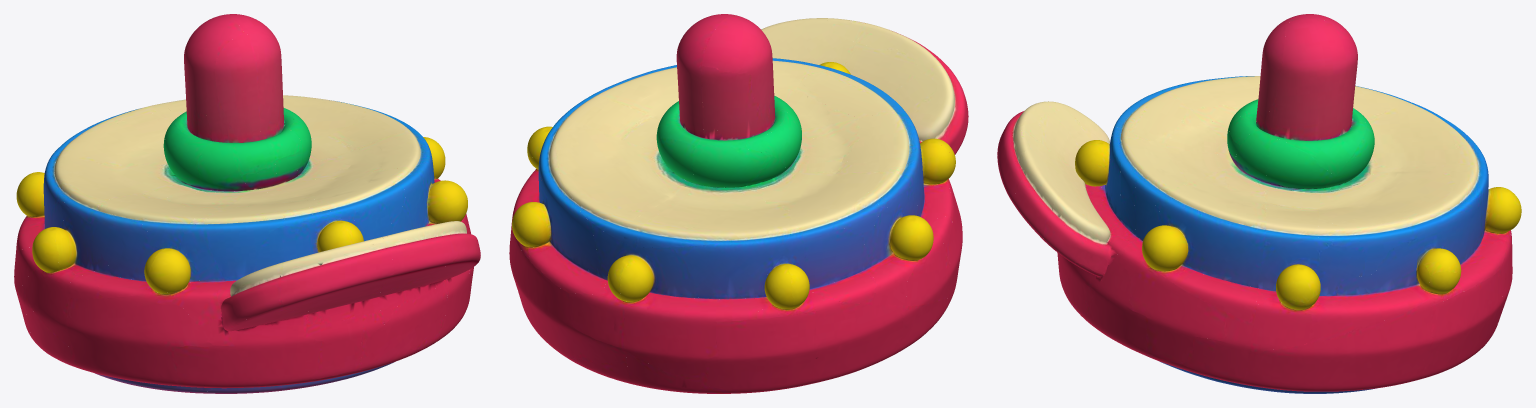
File: disco-base.glb
3 renders of one model, left to right at view 1: azimuth 30°, elevation 25°; view 2: azimuth 150°, elevation 25°; view 3: azimuth 270°, elevation 25°, orthographic.
Parts seen in each view (by area): view 1: tripo_node_17921b7a-1a56-4ddc-982e-e2a70c8f90a6; view 2: tripo_node_17921b7a-1a56-4ddc-982e-e2a70c8f90a6; view 3: tripo_node_17921b7a-1a56-4ddc-982e-e2a70c8f90a6.
Boxes of the visible parts, bbox=[...] form: tripo_node_17921b7a-1a56-4ddc-982e-e2a70c8f90a6: bbox=[14, 14, 480, 393]; tripo_node_17921b7a-1a56-4ddc-982e-e2a70c8f90a6: bbox=[509, 14, 968, 393]; tripo_node_17921b7a-1a56-4ddc-982e-e2a70c8f90a6: bbox=[997, 14, 1521, 393].
Size of the model in its own units: 0.866 by 0.731 by 0.9795.
1 material, 1 textured.
